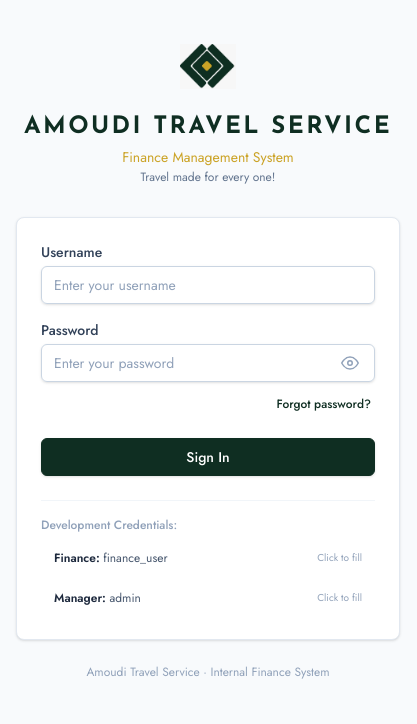
Test: LoginPage › shows client-side validation error when submitting empty fields
This screenshot has width=417, height=724.
Click the button "Sign In": [208, 456] box left=41, top=438, right=375, bottom=476
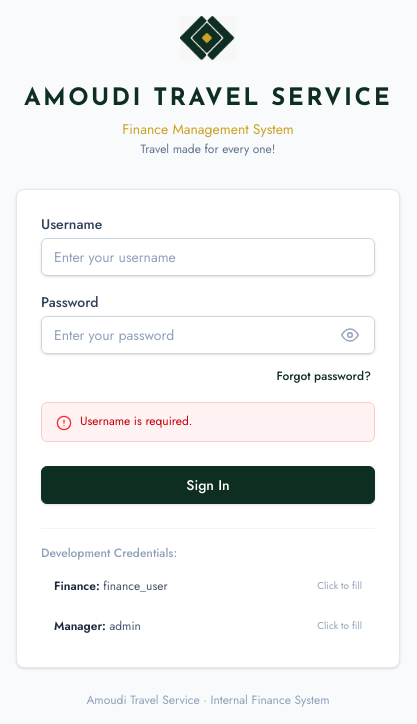
Check: the text "Username is required." is shown, box left=80, top=412, right=192, bottom=428
